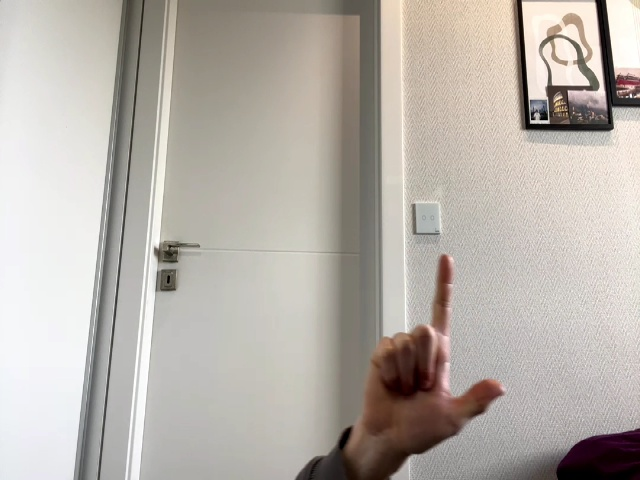L: (365, 255, 506, 453)
